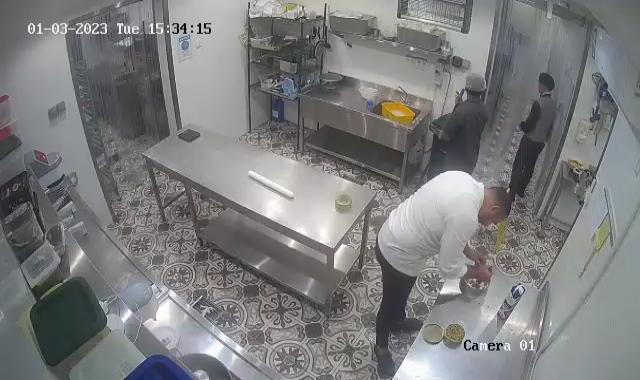hairnet: (464, 73, 488, 97)
no_hairnet: (482, 184, 516, 230), (538, 73, 556, 95)
